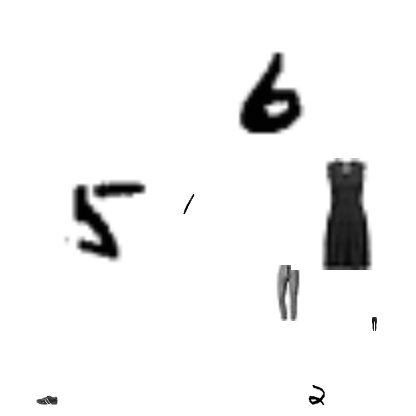1: (174, 190, 202, 218)
2: (303, 382, 331, 410)
5: (41, 157, 153, 269)
6: (212, 45, 324, 157)
Dress: (291, 158, 403, 270)
Sneaker: (36, 389, 58, 411)
Trouser: (259, 265, 315, 321), (367, 317, 381, 331)
